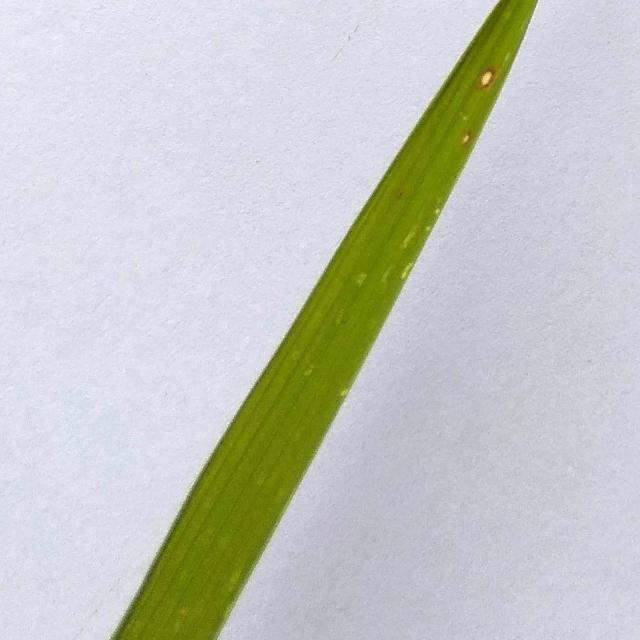Leaf_Blast: (445, 40, 526, 156)
